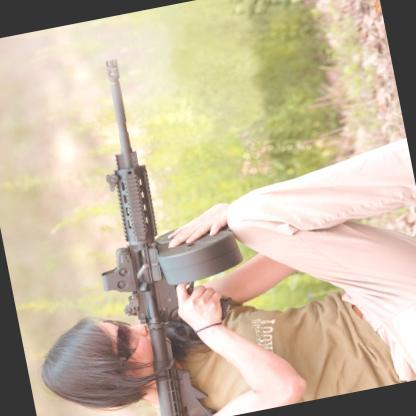rifle: (52, 40, 259, 416)
